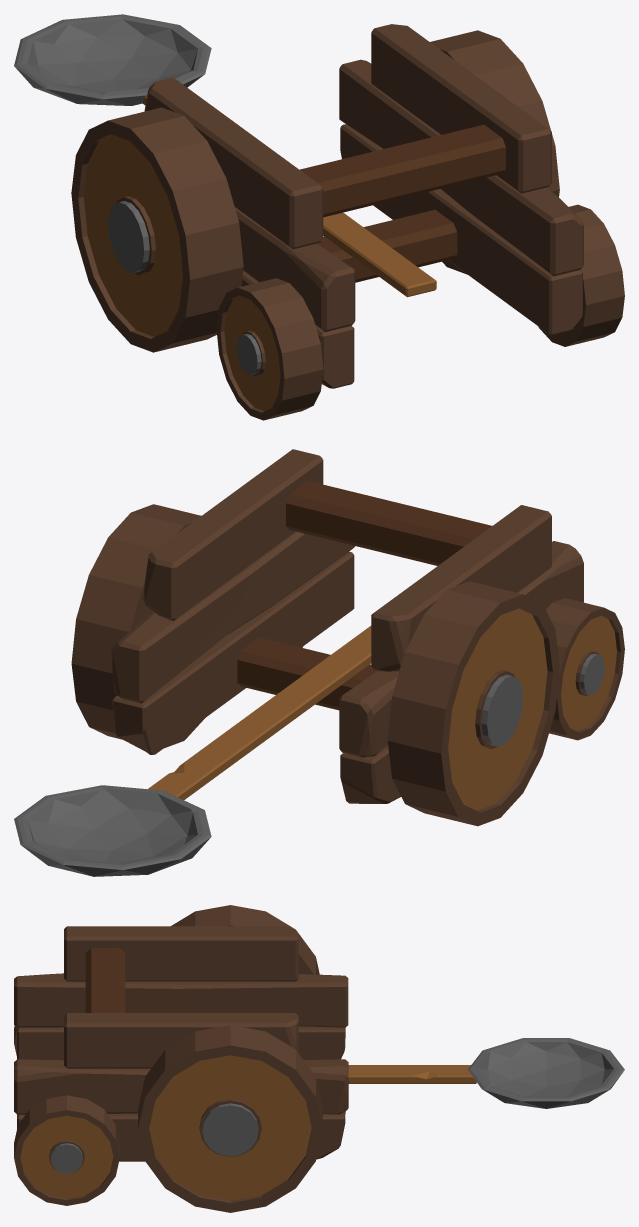
Rendered from Catapult.fbx.
3 renders of one model, top to bottom at view 1: azimuth 30°, elevation 25°; view 2: azimuth 150°, elevation 25°; view 3: azimuth 270°, elevation 25°, orthographic. The views are drawn at different scales.
Parts seen in each view (by area): view 1: Cannon_Platform, Wheels, Catapult; view 2: Cannon_Platform, Wheels, Catapult; view 3: Cannon_Platform, Wheels, Catapult.
Boxes of the visible parts, x1,y1,x2,y2 form: Cannon_Platform: [144, 24, 583, 388]; Wheels: [71, 30, 624, 420]; Catapult: [14, 14, 436, 297]; Cannon_Platform: [111, 449, 583, 803]; Wheels: [71, 504, 624, 826]; Catapult: [14, 625, 371, 876]; Cannon_Platform: [14, 926, 348, 1161]; Wheels: [14, 905, 322, 1212]; Catapult: [348, 1038, 624, 1108].
Size of the model in its own units: 269 by 146 by 483.
